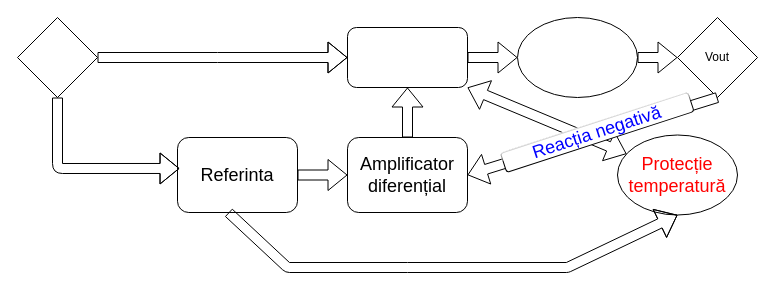
This 775x290 diagram has some shape labels left out. Here are the shapes that lost their labels. From the top down, the centre of each, then its label:
At (x=57, y=57): "Vin".
At (x=407, y=57): "Element reglaj serie".
At (x=577, y=57): "Protecție curent".
